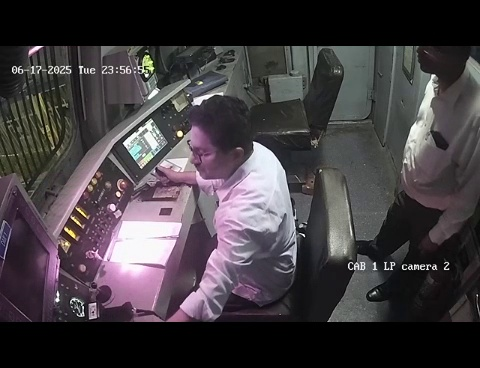horn_inactive: (81, 266, 125, 313)
